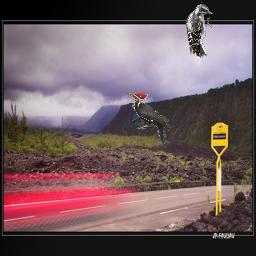Woodpecker: (125, 92, 171, 149), (186, 4, 213, 58)
